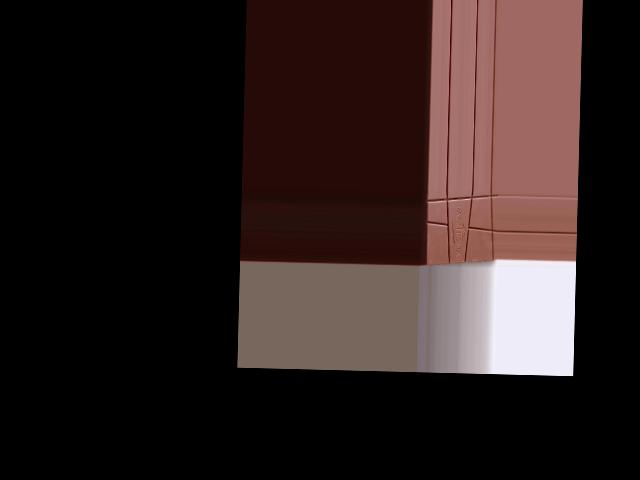chocolate: (422, 188, 498, 268)
